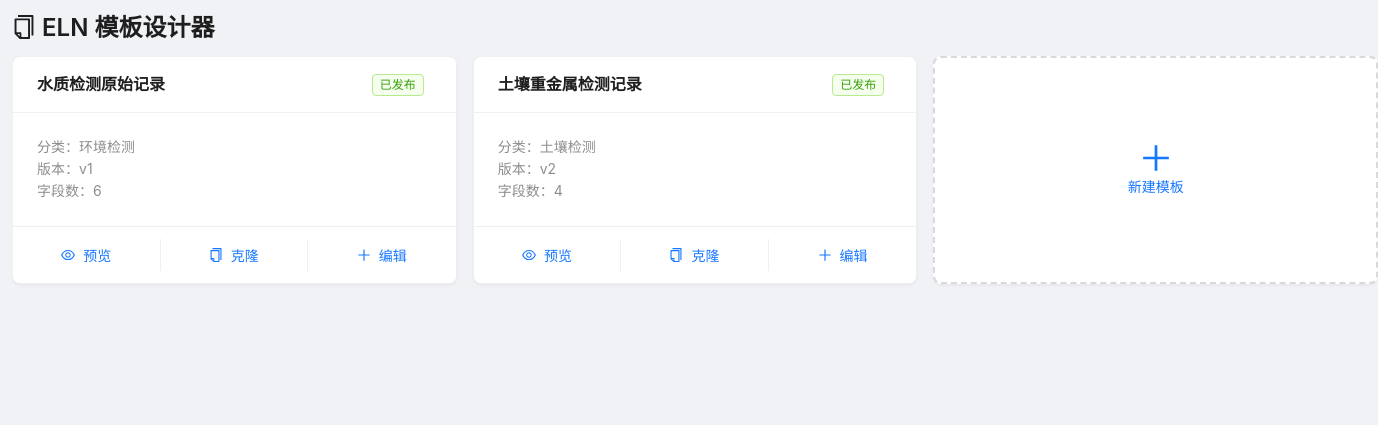
it: TemplateDesignerPage › clones template
The width and height of the screenshot is (1378, 425).
Click the button "克隆" below "环境检测". click: (234, 255)
box: [193,239,275,271]
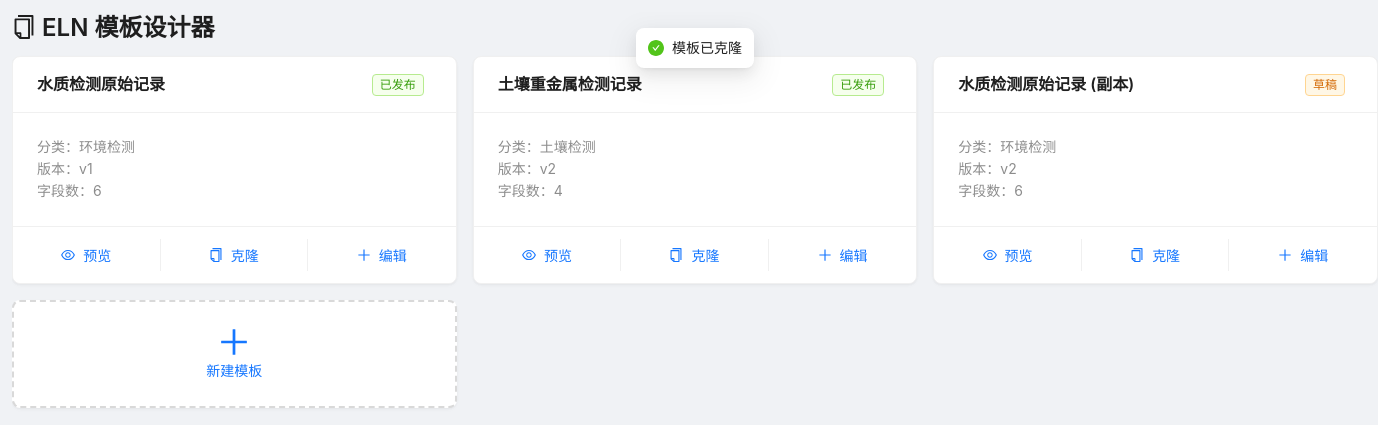
Now the text "水质检测原始记录 (副本)" is shown, box [958,74,1134,94]
